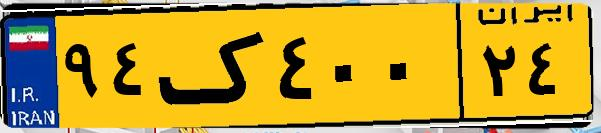0: (385, 28, 445, 110), (330, 28, 385, 110)
2: (475, 38, 525, 113)
4: (270, 28, 330, 110), (525, 38, 570, 115), (110, 28, 158, 98)
9: (57, 26, 110, 100)
ک: (158, 12, 270, 120)
